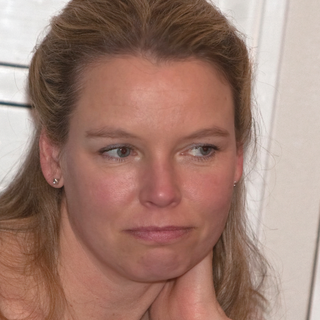eye: (93, 140, 143, 164), (179, 139, 226, 163)
